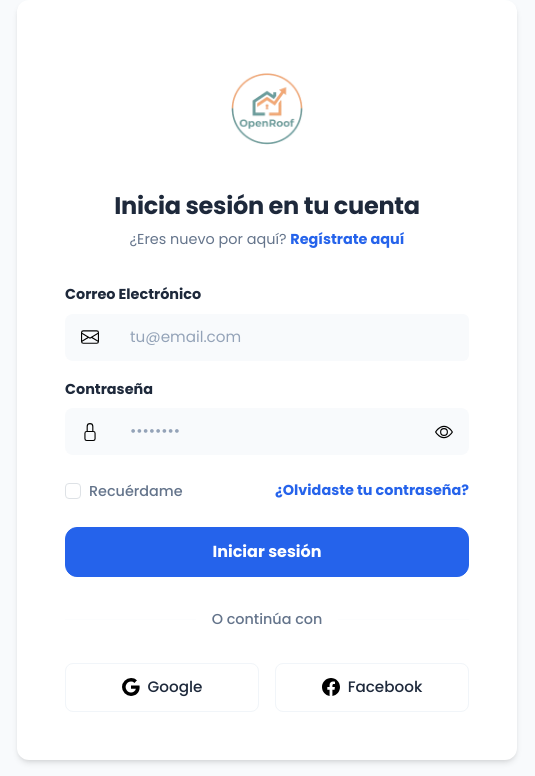
Test: Login Form Validation Flow › debe alternar la visibilidad de la contraseña al hacer clic en el ícono del ojo
This screenshot has width=535, height=776.
// Escribir algo de texto
Type "MiPasswordSecreto123" into the password field named "password".
click(267, 432); type("MiPasswordSecreto123")  # box [114,408,420,455]
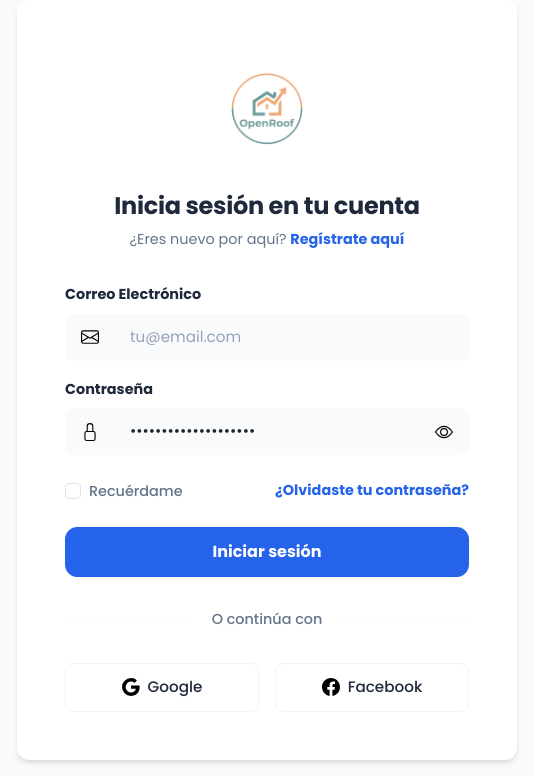
// Hacer clic en el toggle del input (que tiene rol de botón)
Click the button named "Mostrar contraseña".
click(444, 432)  # box [419,408,469,455]
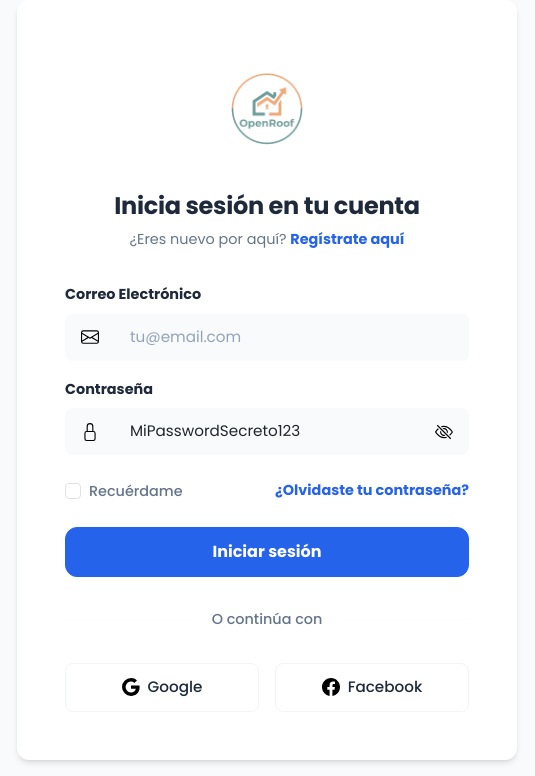
Result: the field named "password" shows its text at [114,408,420,455]
// Hacer clic de nuevo para ocultarla
Click the button named "Ocultar contraseña".
click(444, 432)  # box [419,408,469,455]
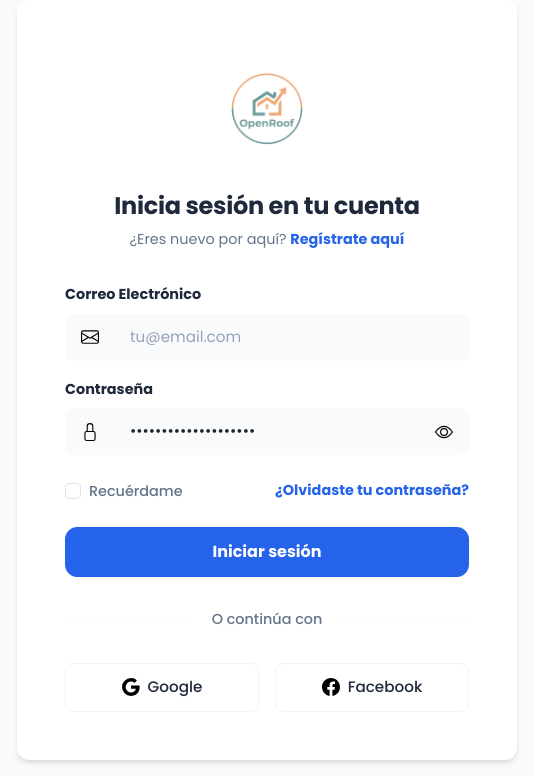
Result: the password field named "password" hides its text at [114,408,420,455]
